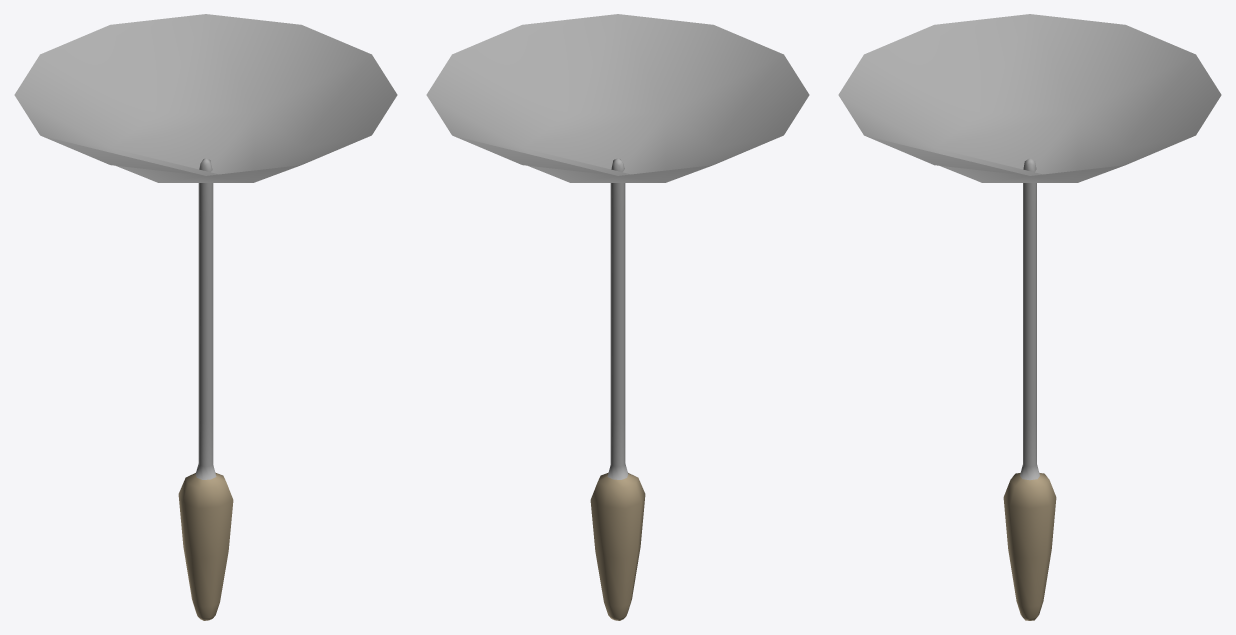
The model's file is dandelion_seed.fbx.
3 views of the same model, side by side, from view 1: azimuth 30°, elevation 25°; view 2: azimuth 150°, elevation 25°; view 3: azimuth 270°, elevation 25° (orthographic).
Parts seen in each view (by area): view 1: dandelion; view 2: dandelion; view 3: dandelion.
Part boxes in pixels (bbox=[...]): dandelion: bbox=[14, 14, 397, 620]; dandelion: bbox=[426, 14, 809, 620]; dandelion: bbox=[838, 14, 1221, 620].
Bounding box in the file's own units: 16.15 × 24.33 × 16.15.
